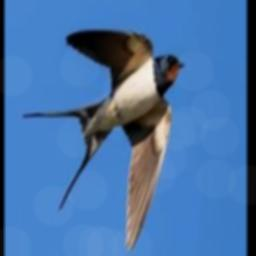Swallow: (22, 29, 184, 250)
